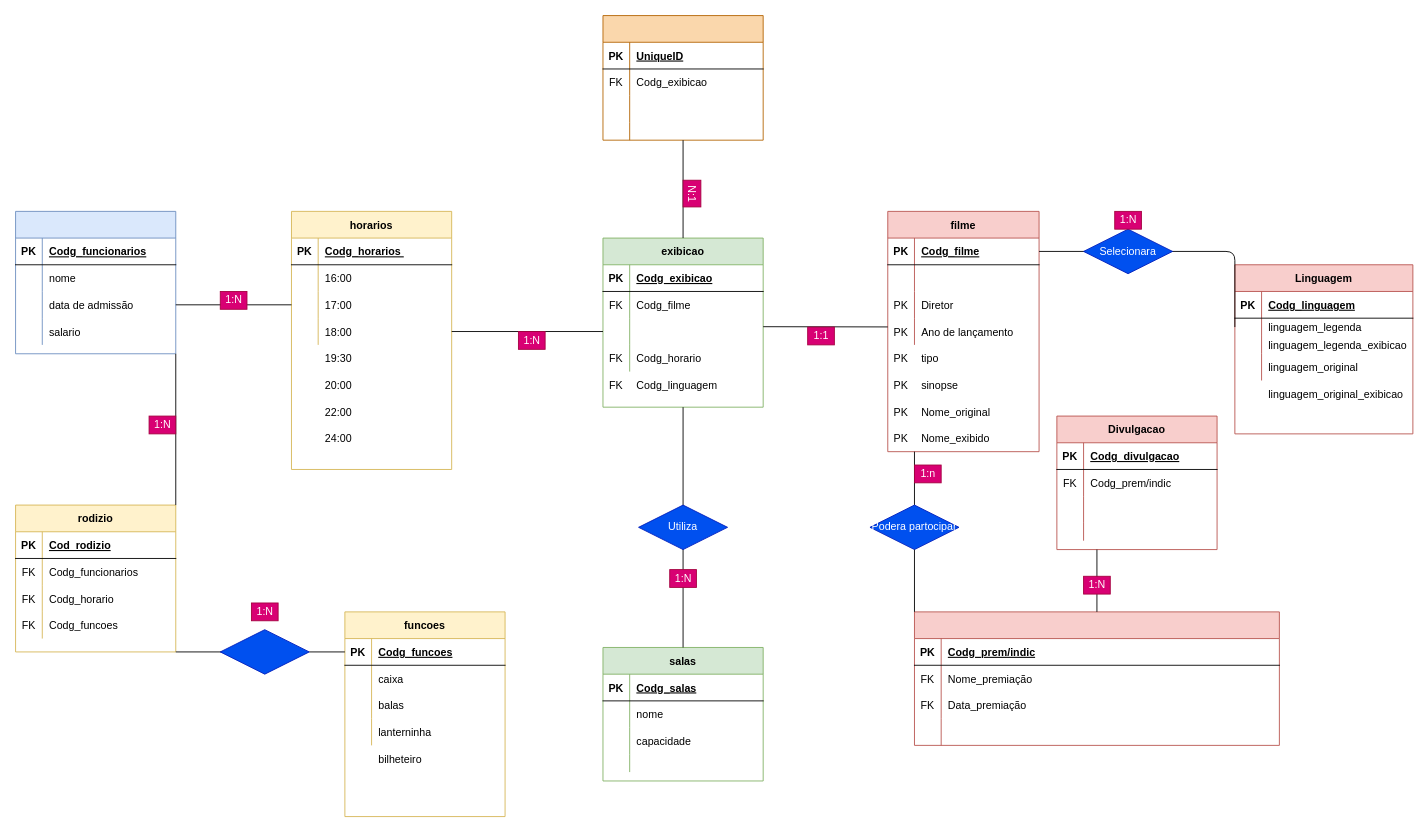
Image size: 1428x832. Some labels were removed from this diagram. Here are the shapes that lost their labels. From the top down, the box of each, then its label:
(602, 15, 763, 140): Cartz
(15, 210, 176, 354): funcionários
(219, 629, 309, 674): seleciona
(914, 611, 1279, 745): premiacao e indicacao
